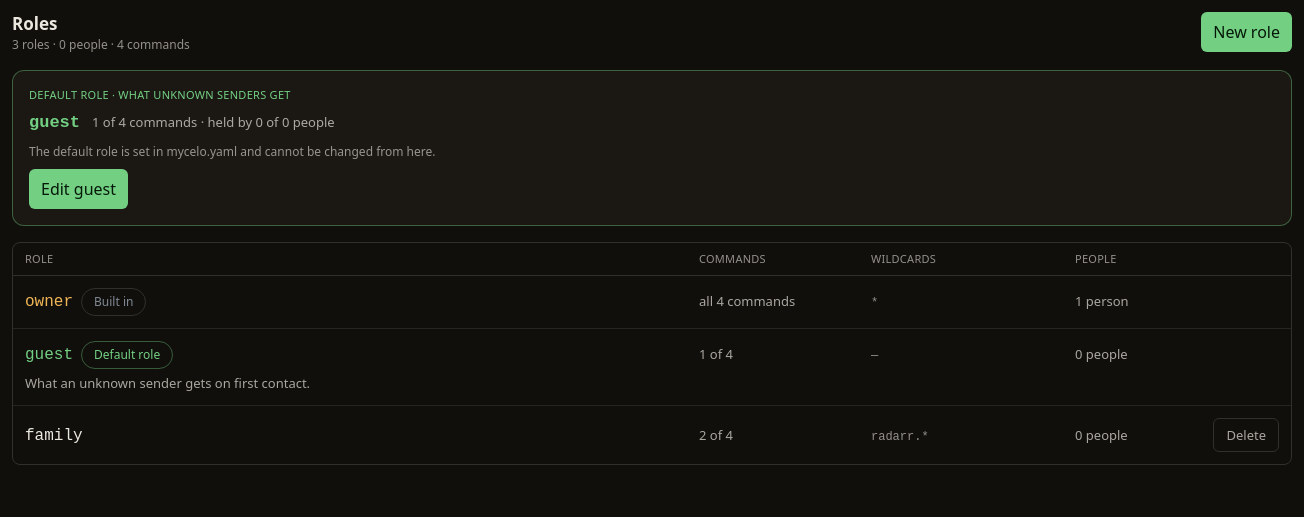
Test case: the roles list › renders the delete refusal in its own alert
Expected: the list item with test id "role-family" is shown, [25,418,1279,452]
Click the button "Delete". click: [1246, 435]
box: [1214,418,1279,452]
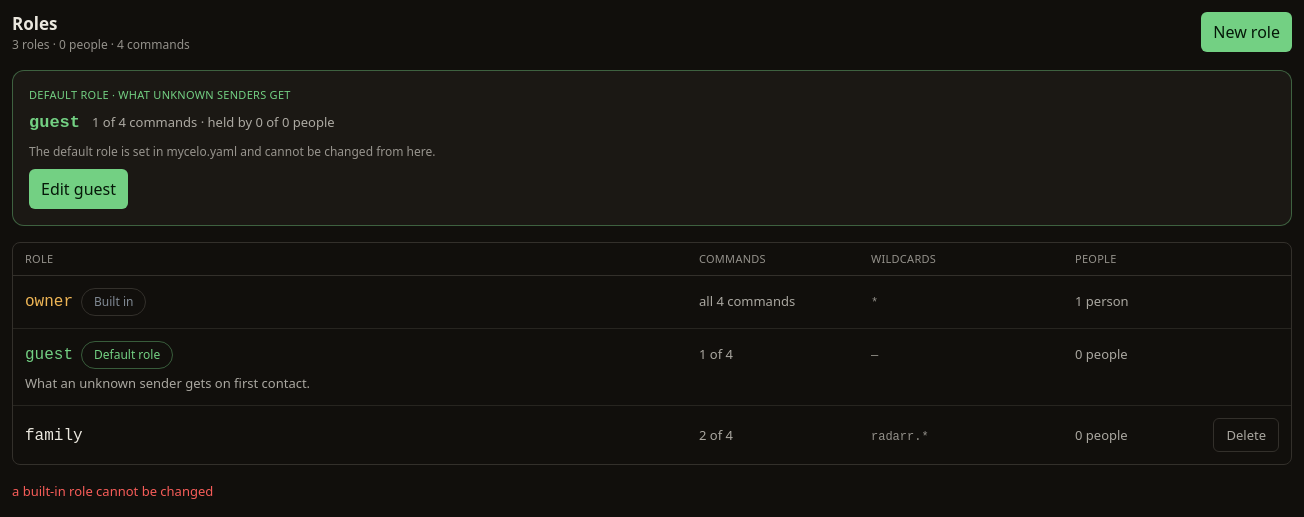
Result: the message reads "a built-in role cannot be changed" at [12,482,213,500]
